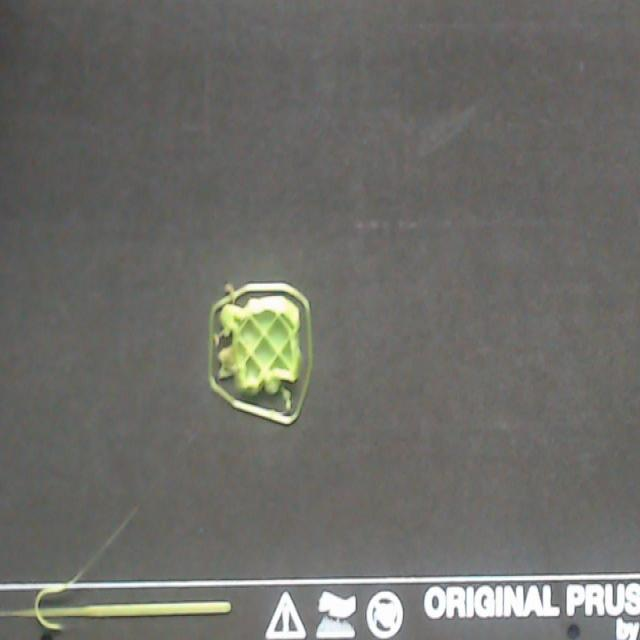mistake: (215, 332, 229, 343), (287, 395, 292, 411), (226, 283, 233, 293)
